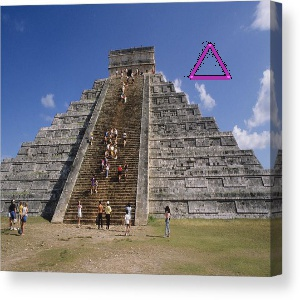triangle: (182, 39, 235, 85)
